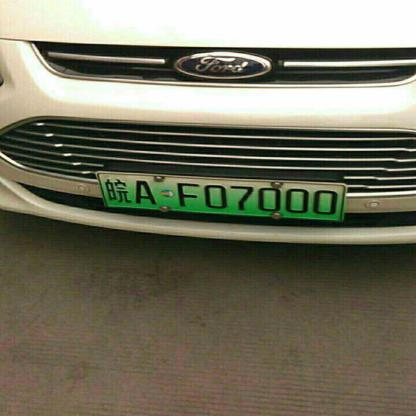lp: (95, 172, 344, 220)
